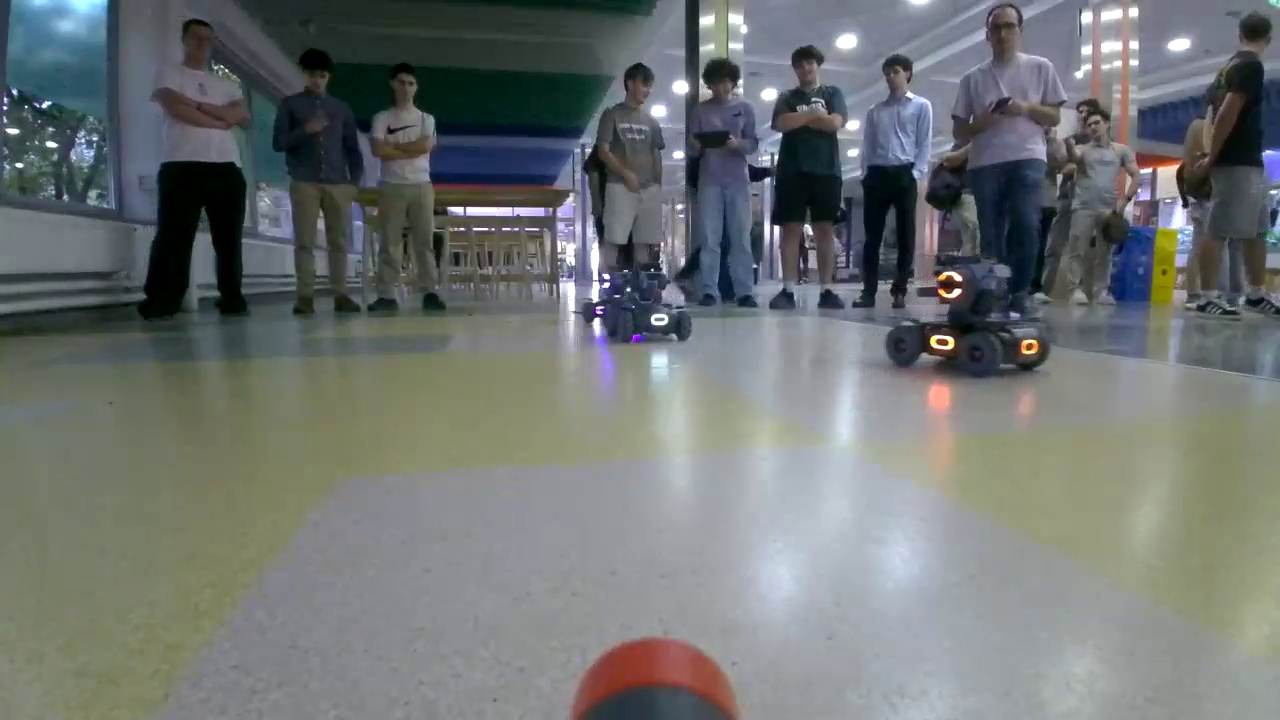robot: (884, 256, 1051, 377), (604, 271, 693, 344), (581, 267, 634, 321)
